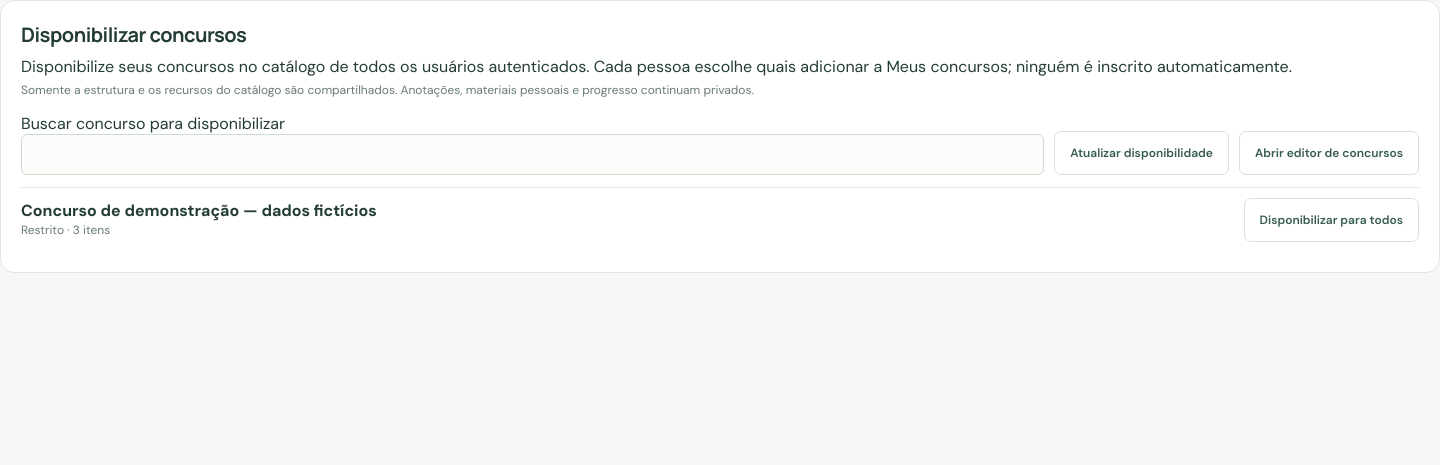
Scenario: disponibiliza somente após prévia e confirmação, sem inscrever contas
Click the button "Disponibilizar para todos".
click(1331, 220)  # box [1244,198,1419,242]
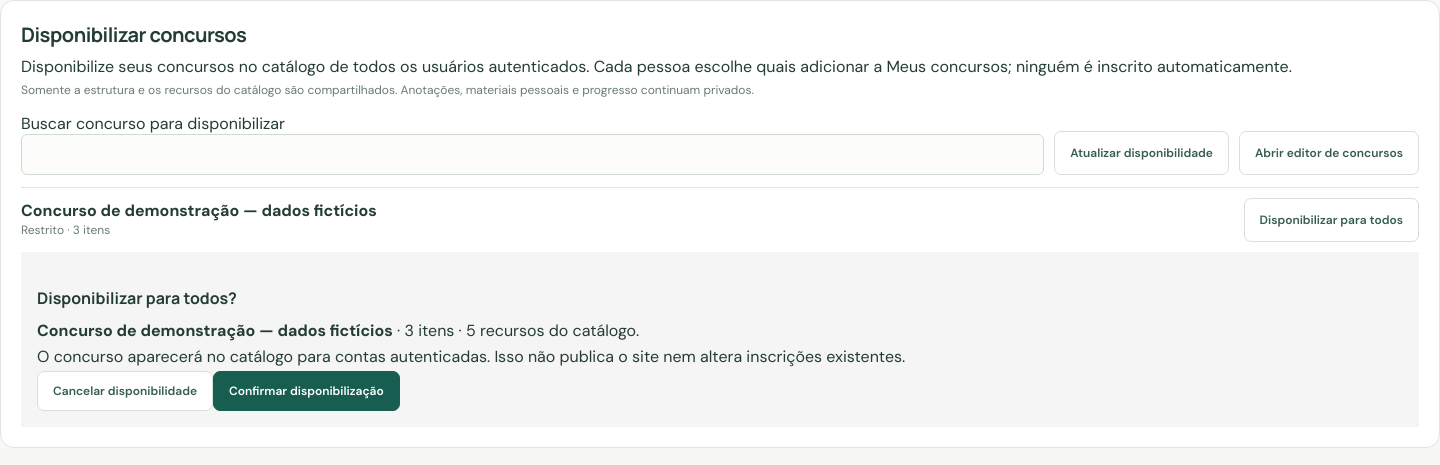
Click the button "Confirmar disponibilização".
click(306, 391)  # box [213,371,400,411]
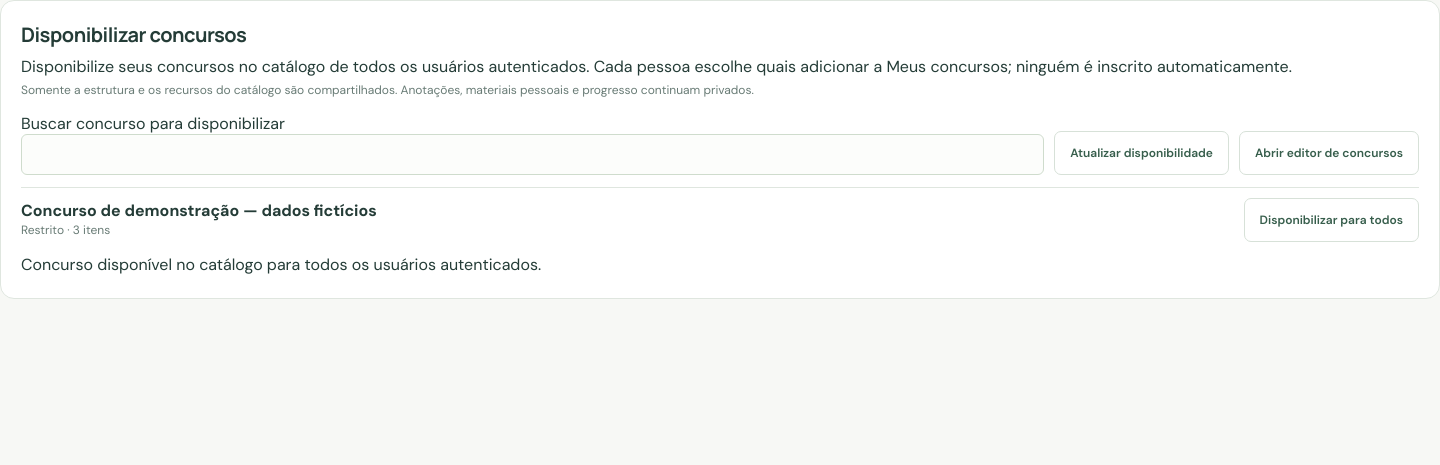
Expected: the text "Concurso disponível no catálogo para todos os usuários autenticados." is shown, [21,254,541,275]
